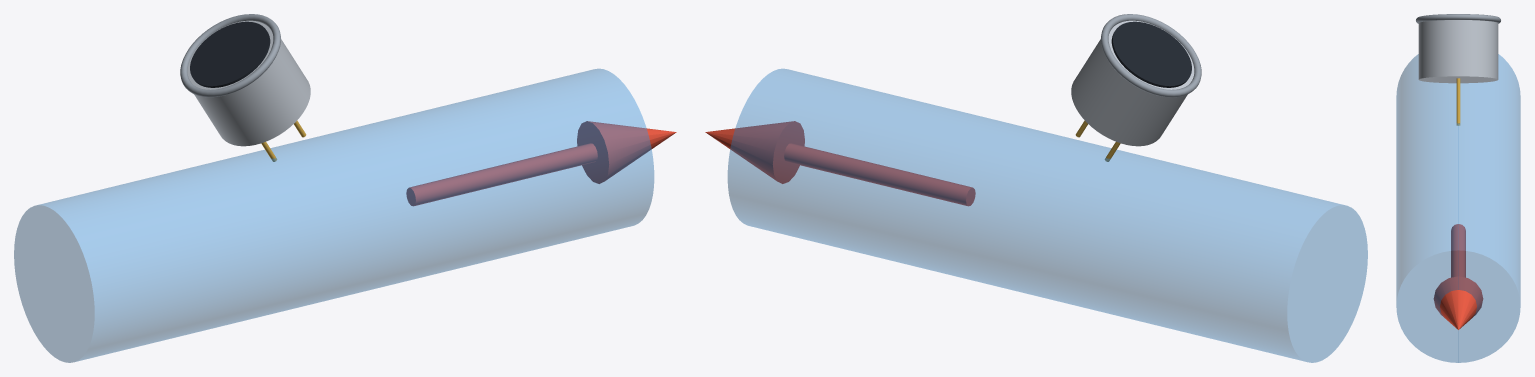
File: doppler.glb
3 views of the same model, side by side, from view 1: azimuth 30°, elevation 25°; view 2: azimuth 150°, elevation 25°; view 3: azimuth 270°, elevation 25° (orthographic). The views are drawn at different scales.
Size of the model in its own units: 0.89 by 0.3899 by 0.2.
